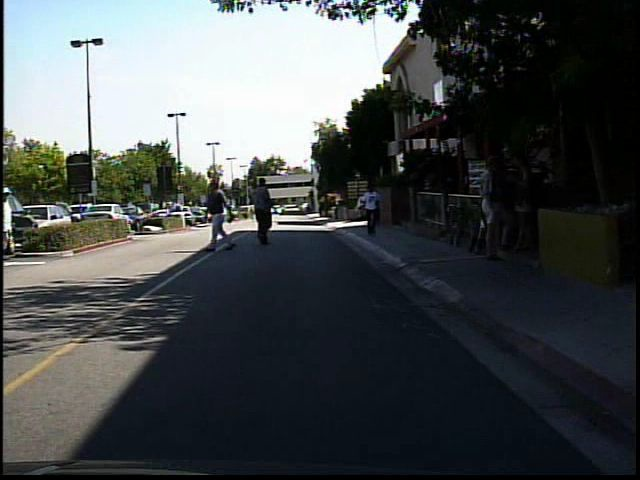person: (472, 149, 511, 264), (506, 153, 536, 257), (204, 175, 238, 255), (248, 174, 283, 250), (358, 178, 387, 240), (4, 182, 26, 262), (170, 196, 186, 228), (245, 200, 261, 224)
